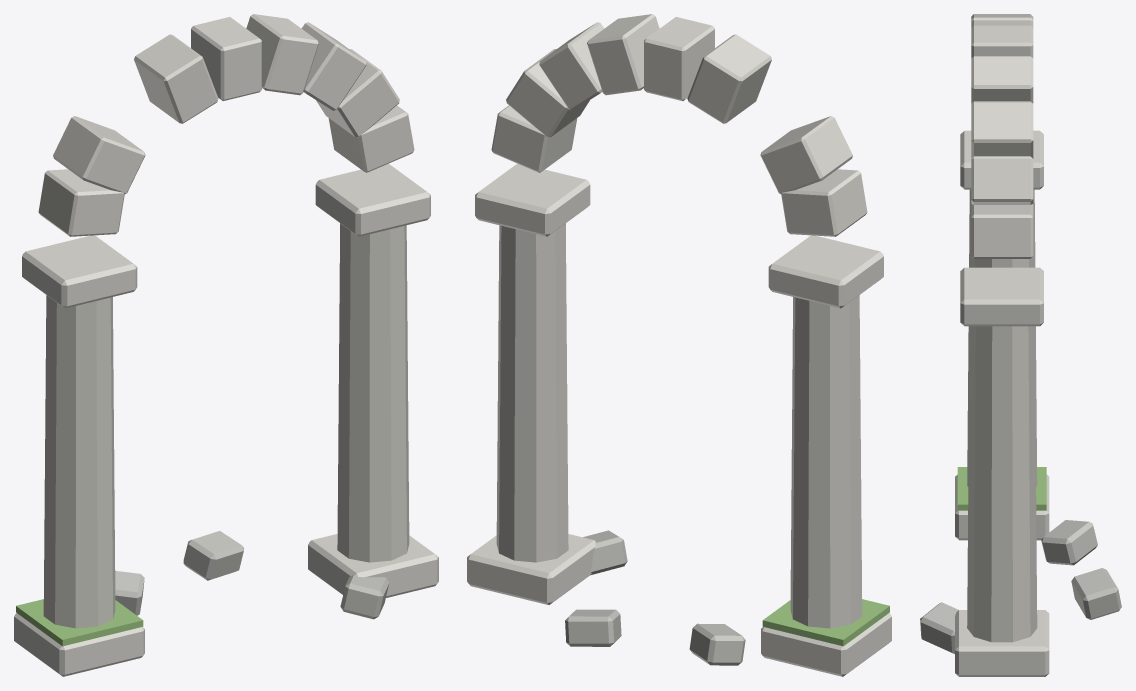
Rendered from Ruin_Arch.glb.
3 views of the same model, side by side, from view 1: azimuth 30°, elevation 25°; view 2: azimuth 150°, elevation 25°; view 3: azimuth 270°, elevation 25° (orthographic). The views are drawn at different scales.
Visible parts, largest first — view 1: Ruin_Arch; view 2: Ruin_Arch; view 3: Ruin_Arch.
Part boxes in pixels (left/top/right/bottom): Ruin_Arch: left=14, top=14, right=438, bottom=676; Ruin_Arch: left=467, top=14, right=891, bottom=676; Ruin_Arch: left=920, top=14, right=1121, bottom=676.
Bounding box in the file's own units: 3.1 × 4.58 × 1.5.
